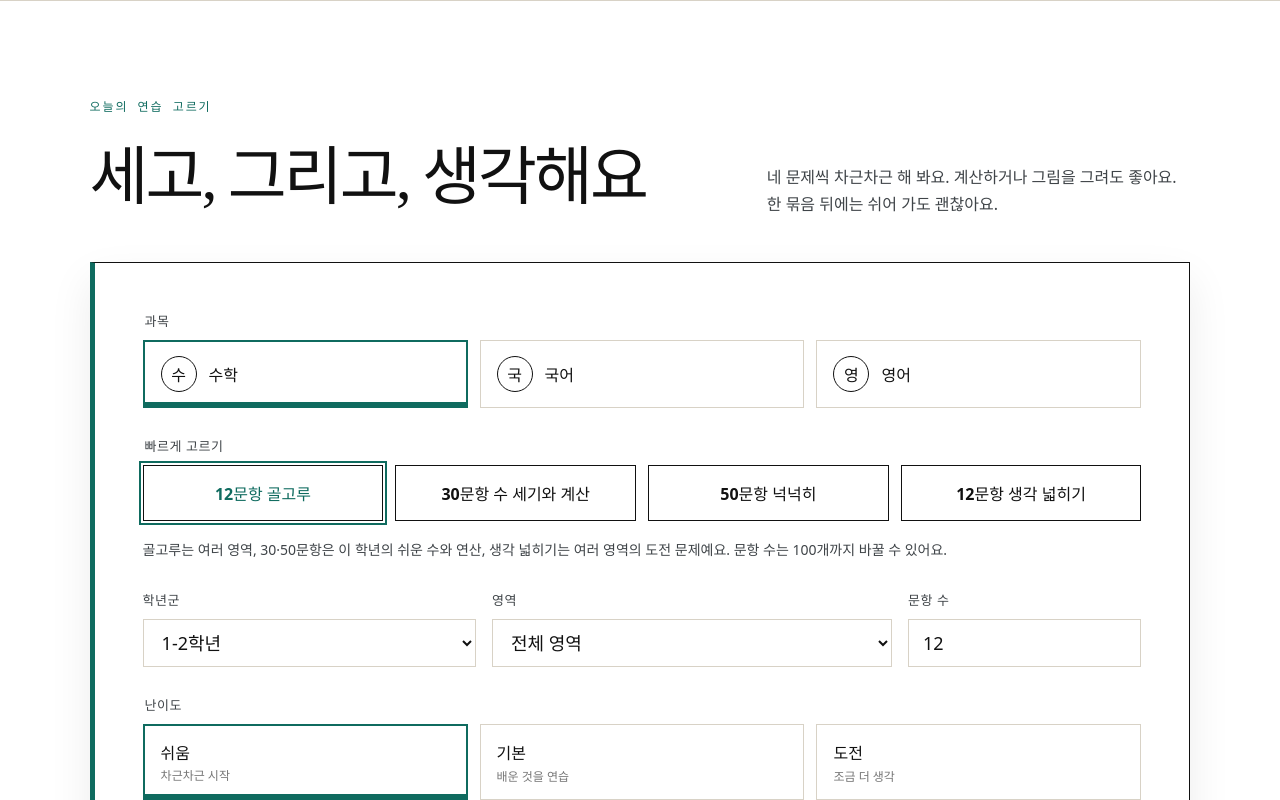
Test: problem selection › uses subject defaults only until count is explicitly chosen
This screenshot has width=1280, height=800.
Check: the number field labelled "문항 수" holds "12", box [908,619,1141,667]
What coordinates should you click on to do the following:
click the radio button labelled "국어"
I would click on:
 (515, 374)
Its box is [480,340,804,408].
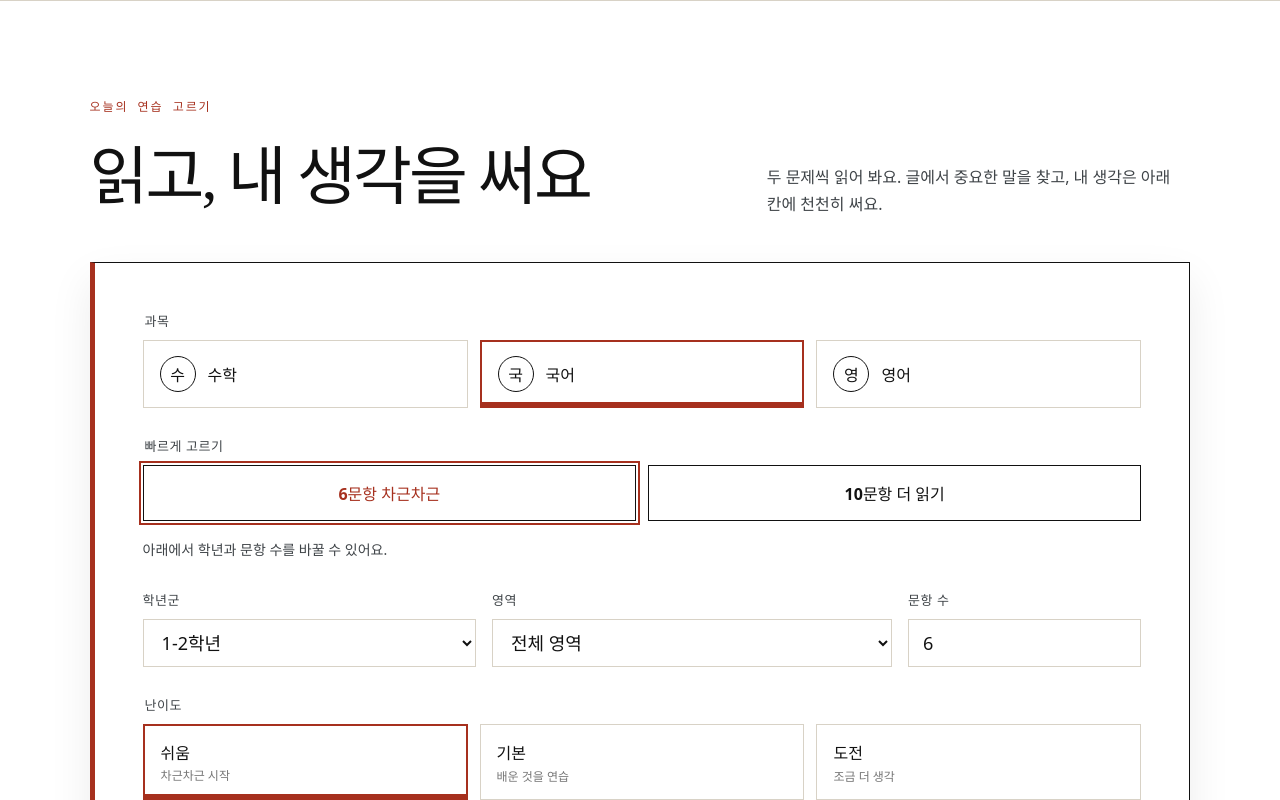
Check: the number field labelled "문항 수" holds "6", box [908,619,1141,667]
What coordinates should you click on to do the following:
click the radio button labelled "영어"
I would click on:
 (851, 374)
Its box is [816,340,1141,408].
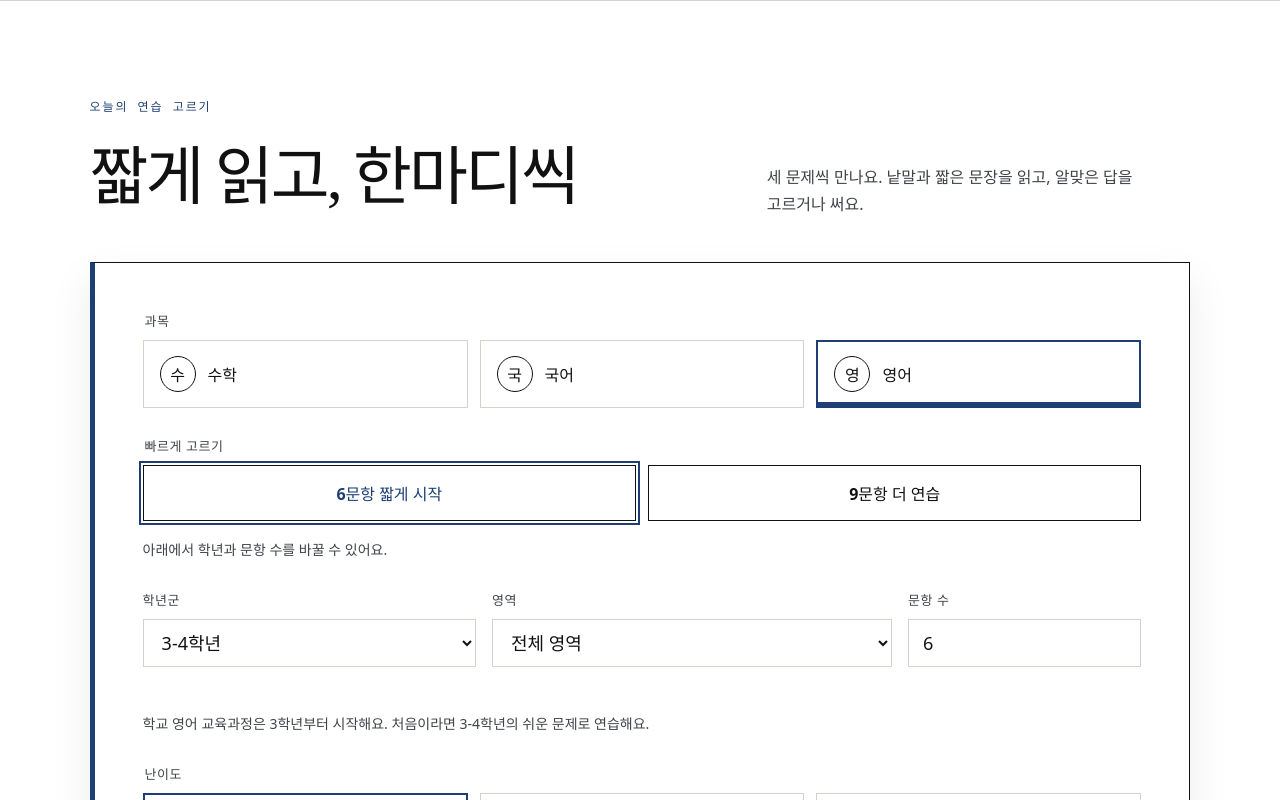
Check: the number field labelled "문항 수" holds "6", box [908,619,1141,667]
What coordinates should you click on to do the following:
click the radio button labelled "수학"
I would click on:
 (178, 374)
Its box is [143,340,468,408].
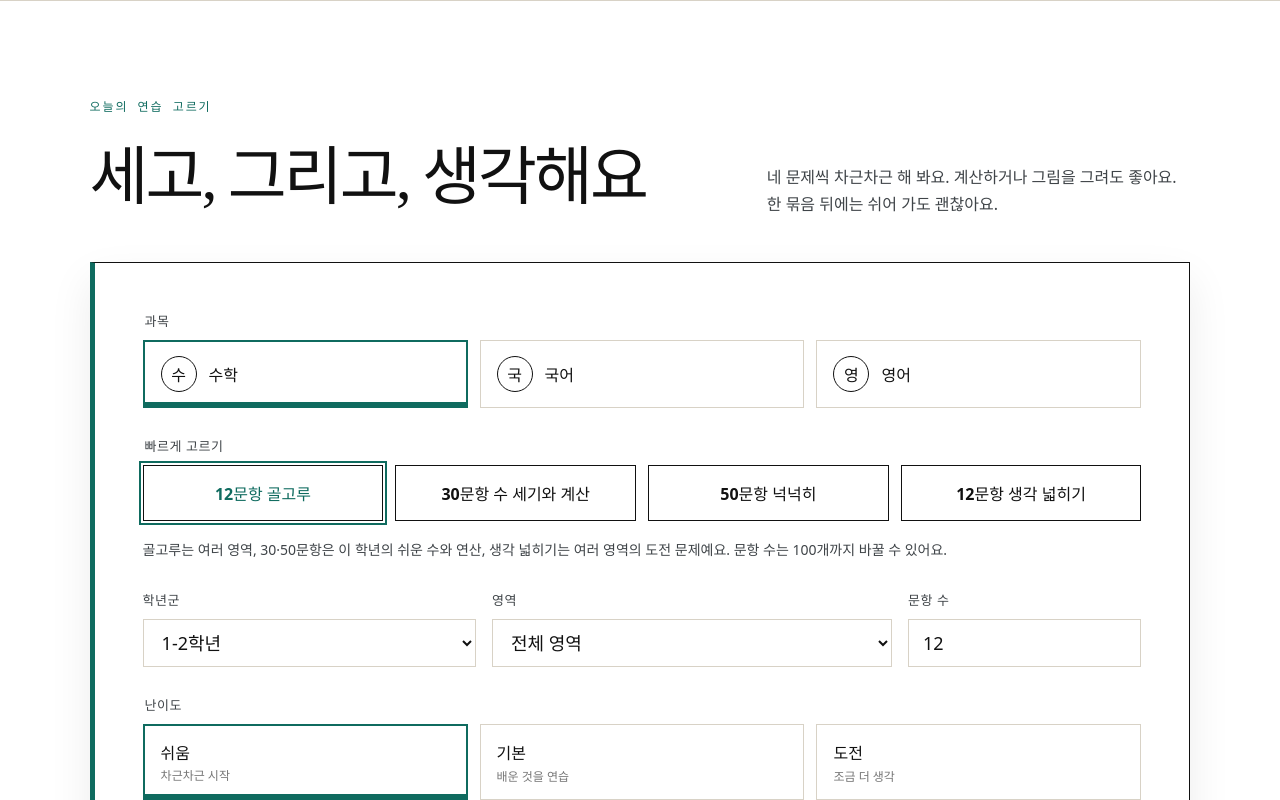
Check: the number field labelled "문항 수" holds "12", box [908,619,1141,667]
